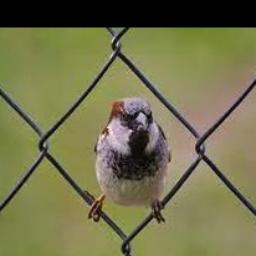Sparrow: (93, 97, 170, 210)
